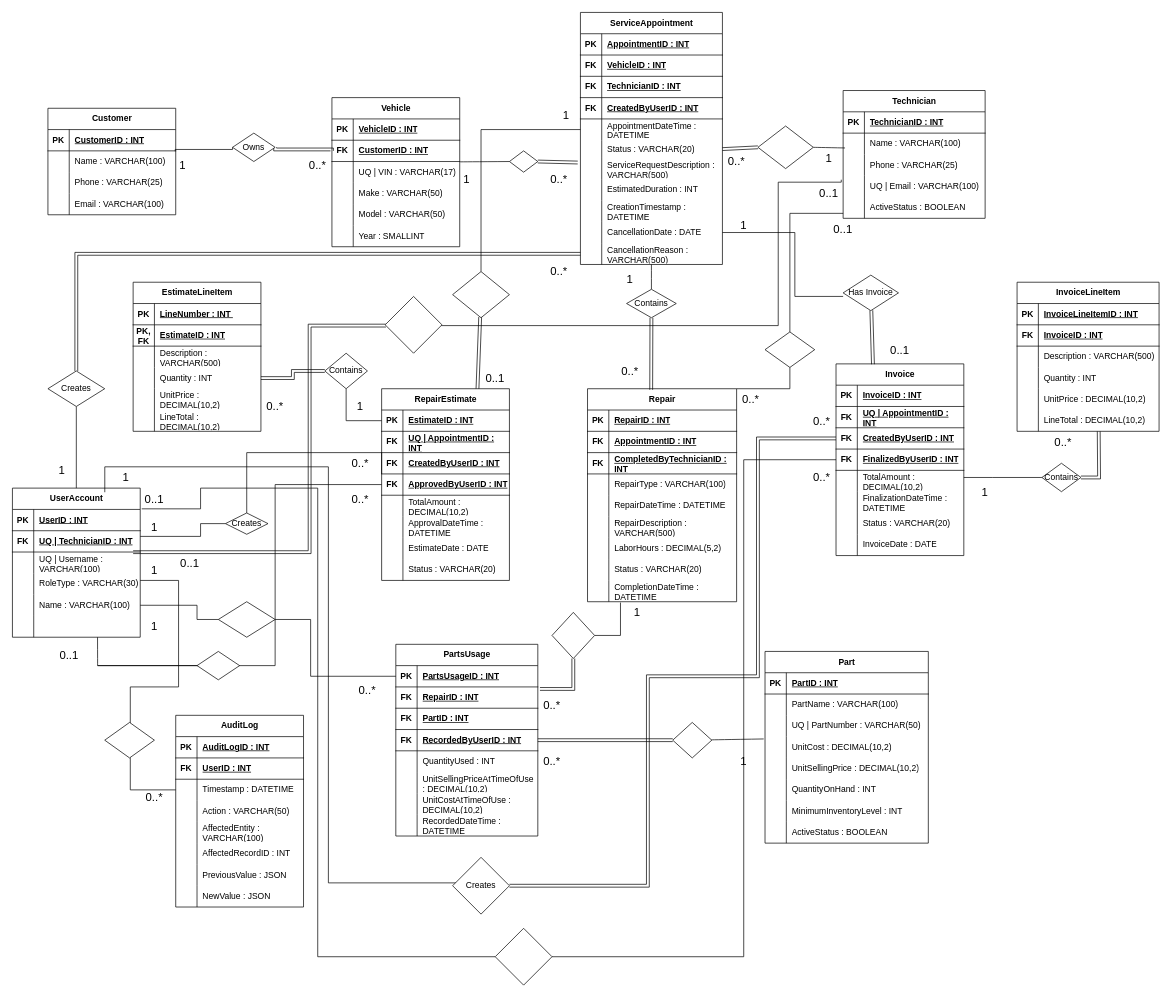
This 1172x998 diagram has some shape labels left out. The shapes that lost their labels are listed below. From the top down, each one's centre as x and y in pixels, then its label:
At pixel 523 161: "Has".
At pixel 785 147: "Assigned To".
At pixel 480 294: "Has Estimate".
At pixel 413 324: "Has Account".
At pixel 789 349: "Completes".
At pixel 246 619: "Records".
At pixel 573 635: "Has Usage".
At pixel 218 665: "Approves".
At pixel 129 740: "Generates".
At pixel 692 740: "Used In".
At pixel 523 956: "Finalizes".
